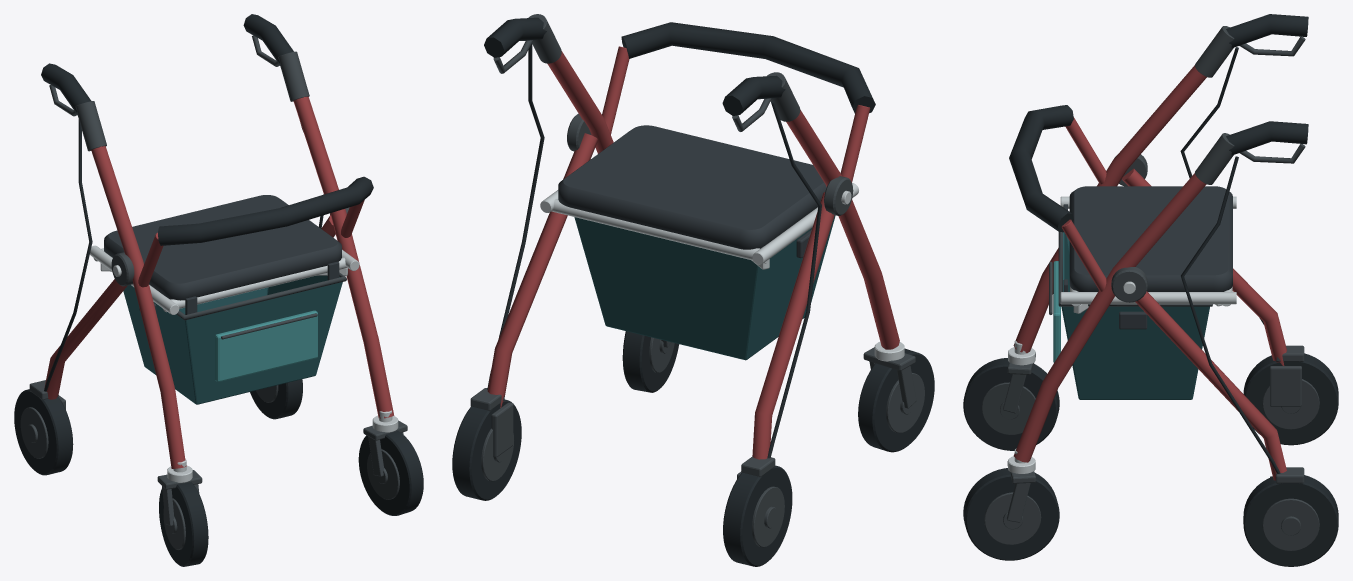
File: city-four-wheel-rollator.glb
3 views of the same model, side by side, from view 1: azimuth 30°, elevation 25°; view 2: azimuth 150°, elevation 25°; view 3: azimuth 270°, elevation 25° (orthographic). The views are drawn at different scales.
Parts seen in each view (by area): view 1: Assembly | Charcoal rubber wheels and grips, Assembly | Warm burgundy frame enamel, Assembly | Black upholstery, Assembly | Dark textile bound edges, Assembly | Graphite frame fittings, Assembly | Muted teal woven textile, Assembly | Brushed satin aluminum; view 2: Assembly | Charcoal rubber wheels and grips, Assembly | Black upholstery, Assembly | Dark textile bound edges, Assembly | Warm burgundy frame enamel, Assembly | Graphite frame fittings, Assembly | Brushed satin aluminum; view 3: Assembly | Charcoal rubber wheels and grips, Assembly | Warm burgundy frame enamel, Assembly | Graphite frame fittings, Assembly | Black upholstery, Assembly | Dark textile bound edges, Assembly | Brushed satin aluminum, Assembly | Muted teal woven textile.
Boxes of the visible parts, left/top/right/bottom form: Assembly | Charcoal rubber wheels and grips: left=14, top=14, right=423, bottom=566; Assembly | Warm burgundy frame enamel: left=44, top=96, right=394, bottom=468; Assembly | Black upholstery: left=104, top=195, right=341, bottom=314; Assembly | Dark textile bound edges: left=123, top=275, right=342, bottom=404; Assembly | Graphite frame fittings: left=20, top=35, right=407, bottom=549; Assembly | Muted teal woven textile: left=215, top=310, right=317, bottom=381; Assembly | Brushed satin aluminum: left=90, top=245, right=398, bottom=482; Assembly | Charcoal rubber wheels and grips: left=452, top=17, right=934, bottom=566; Assembly | Black upholstery: left=558, top=125, right=826, bottom=258; Assembly | Dark textile bound edges: left=574, top=215, right=835, bottom=360; Assembly | Warm burgundy frame enamel: left=487, top=46, right=899, bottom=459; Assembly | Graphite frame fittings: left=470, top=14, right=924, bottom=547; Assembly | Brushed satin aluminum: left=540, top=183, right=904, bottom=361; Assembly | Charcoal rubber wheels and grips: left=963, top=14, right=1338, bottom=566; Assembly | Warm burgundy frame enamel: left=1013, top=65, right=1286, bottom=480; Assembly | Graphite frame fittings: left=981, top=26, right=1319, bottom=550; Assembly | Black upholstery: left=1063, top=186, right=1232, bottom=329; Assembly | Dark textile bound edges: left=1061, top=232, right=1209, bottom=399; Assembly | Brushed satin aluminum: left=1008, top=196, right=1236, bottom=473; Assembly | Muted teal woven textile: left=1053, top=261, right=1060, bottom=362.
Bounding box in the file's own units: 0.617 × 0.9258 × 0.7252.
